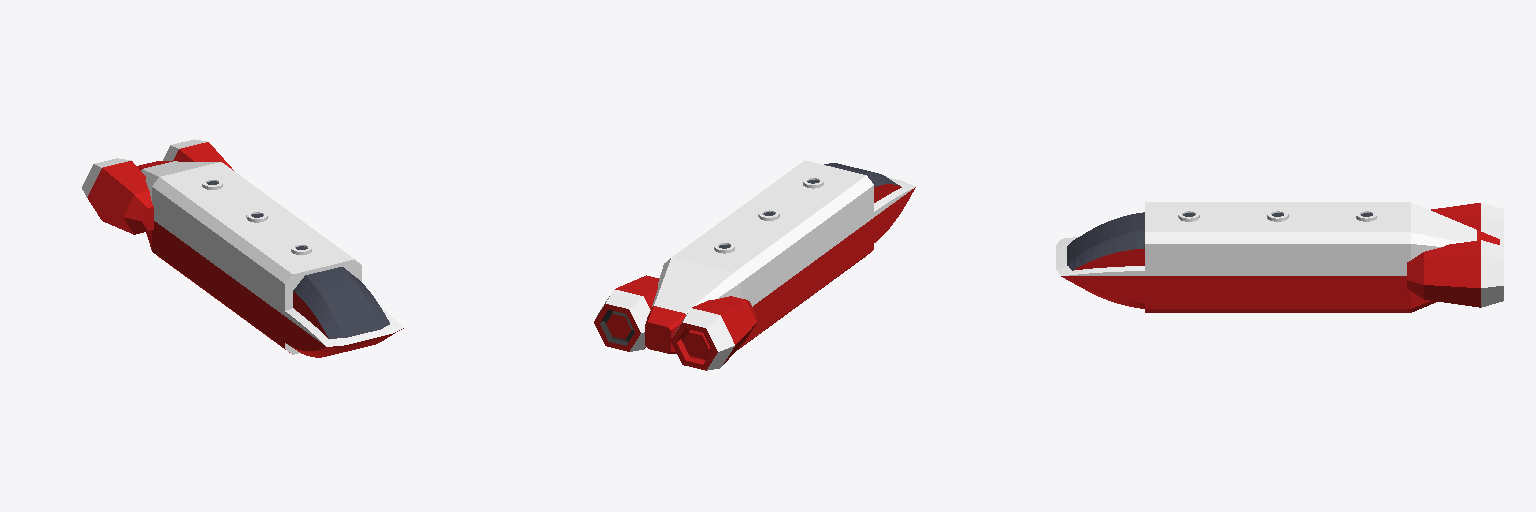
The model's file is BGFreighterZ3.obj.
3 renders of one model, left to right at view 1: azimuth 30°, elevation 25°; view 2: azimuth 150°, elevation 25°; view 3: azimuth 270°, elevation 25°, orthographic.
Size of the model in its own units: 1.77 by 1.04 by 5.05.